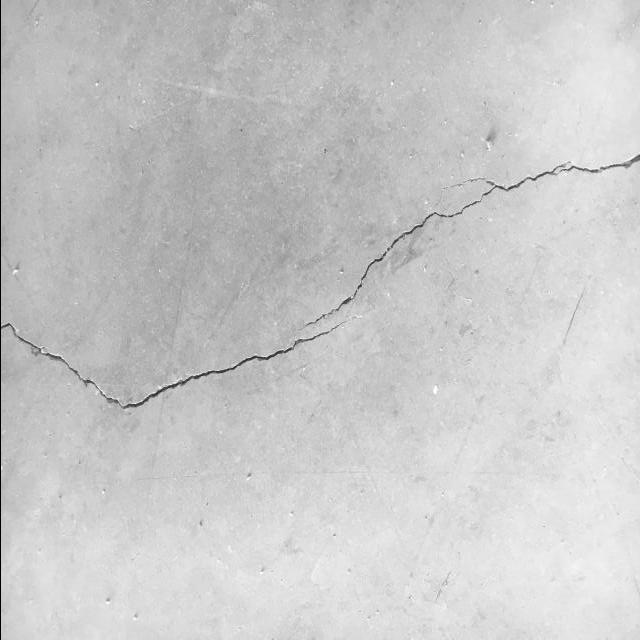SurfaceCrack: (1, 121, 640, 435)
